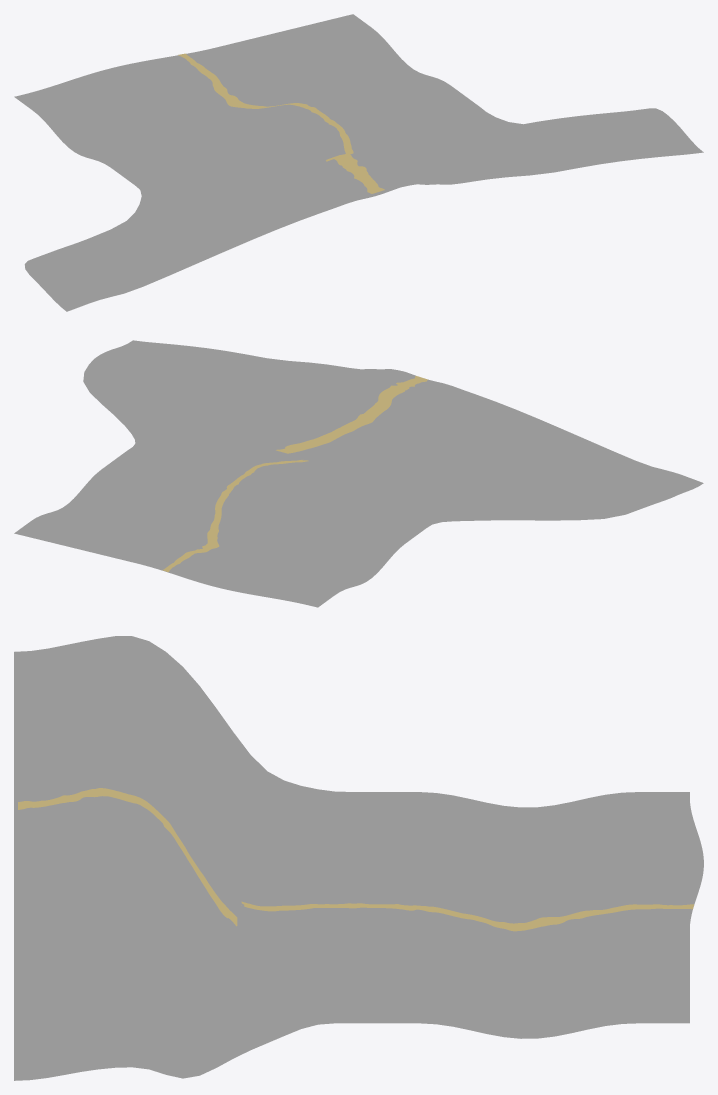
The model's file is Mesh_Operations_Ground_02.fbx.
The picture shows the model from 3 angles, top to bottom: view 1: azimuth 30°, elevation 25°; view 2: azimuth 150°, elevation 25°; view 3: azimuth 270°, elevation 25°; orthographic projection. The views are drawn at different scales.
Parts seen in each view (by area): view 1: Mesh_Adventure_Forest_Variant_Ground_08; view 2: Mesh_Adventure_Forest_Variant_Ground_08; view 3: Mesh_Adventure_Forest_Variant_Ground_08.
Part boxes in pixels (x1,y1,x2,y2): Mesh_Adventure_Forest_Variant_Ground_08: (14, 14, 703, 311); Mesh_Adventure_Forest_Variant_Ground_08: (14, 340, 703, 607); Mesh_Adventure_Forest_Variant_Ground_08: (14, 636, 703, 1080).
Bounding box in the file's own units: 10685 × 1159 × 7146.
